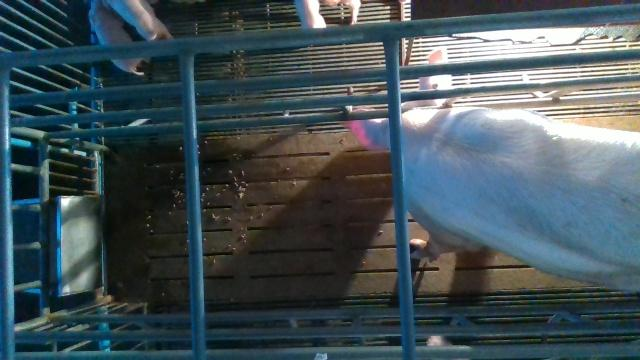piglet: (87, 0, 152, 74), (107, 0, 174, 41)
sow-stand: (347, 44, 640, 291)
